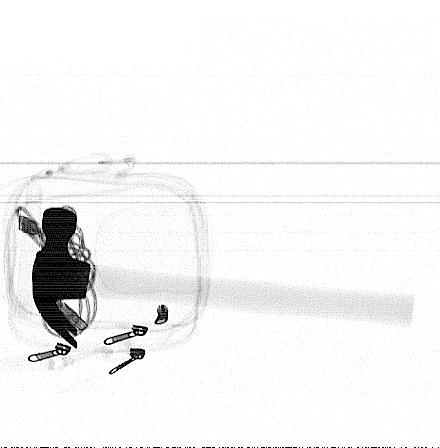Hammer: (32, 206, 415, 350)
